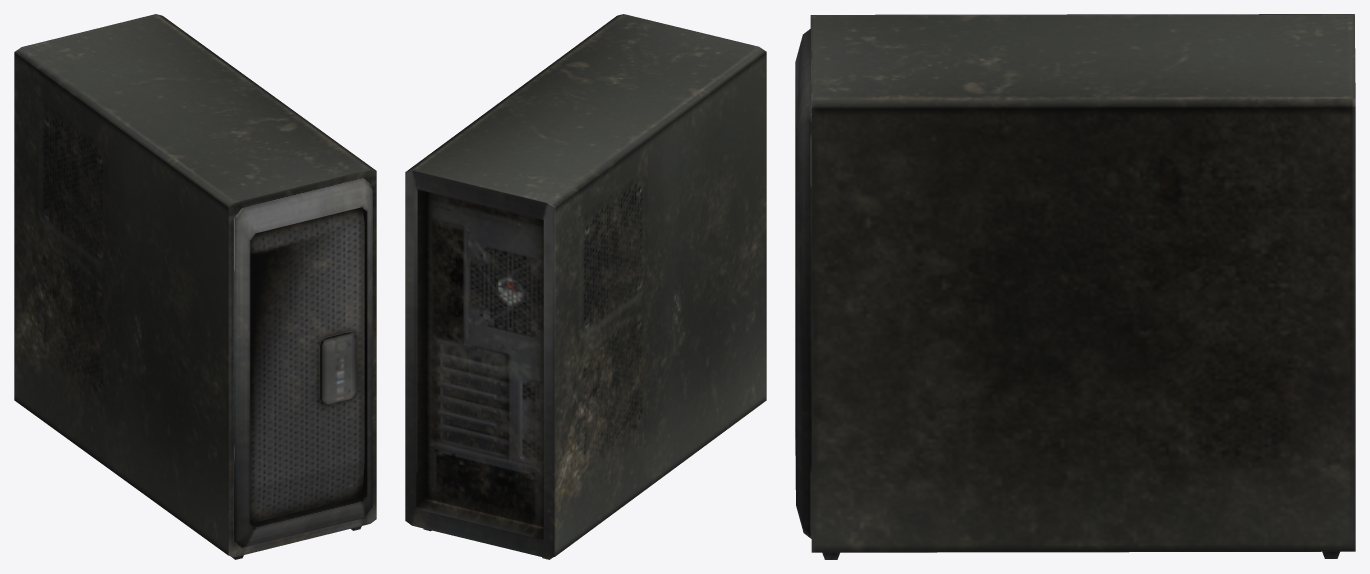
Rendered from CPUCabinet.FBX.
The picture shows the model from 3 angles, left to right: view 1: azimuth 30°, elevation 25°; view 2: azimuth 150°, elevation 25°; view 3: azimuth 270°, elevation 25°; orthographic projection. The views are drawn at different scales.
Parts seen in each view (by area): view 1: CPUCabinet; view 2: CPUCabinet; view 3: CPUCabinet.
Part boxes in pixels (x1,y1,x2,y2): CPUCabinet: (14, 14, 376, 559); CPUCabinet: (405, 14, 766, 559); CPUCabinet: (795, 14, 1355, 559).
Size of the model in its own units: 30.32 by 69.94 by 76.66.
